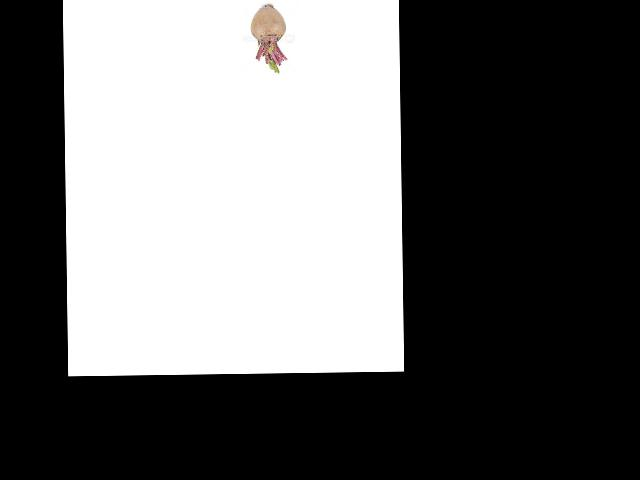beet: (249, 4, 287, 73)
